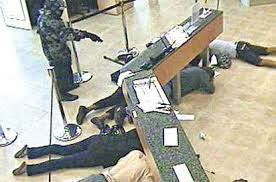rifle: (67, 27, 102, 44)
